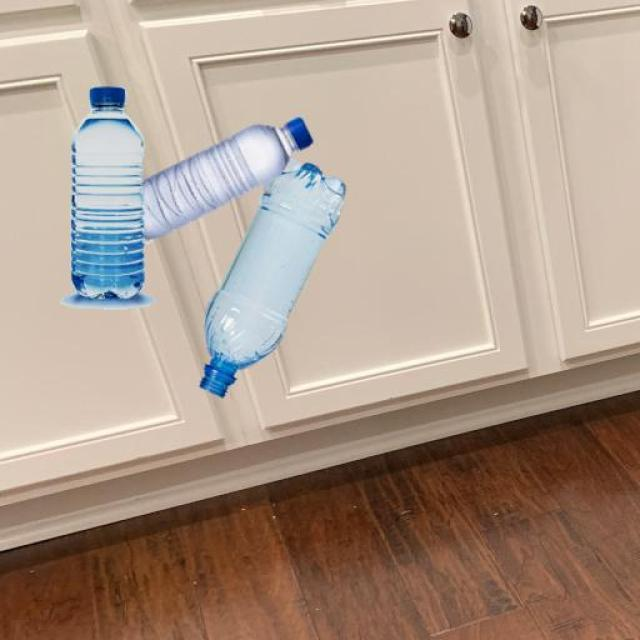bottle: (198, 160, 346, 398), (140, 114, 312, 240), (67, 84, 146, 298)
